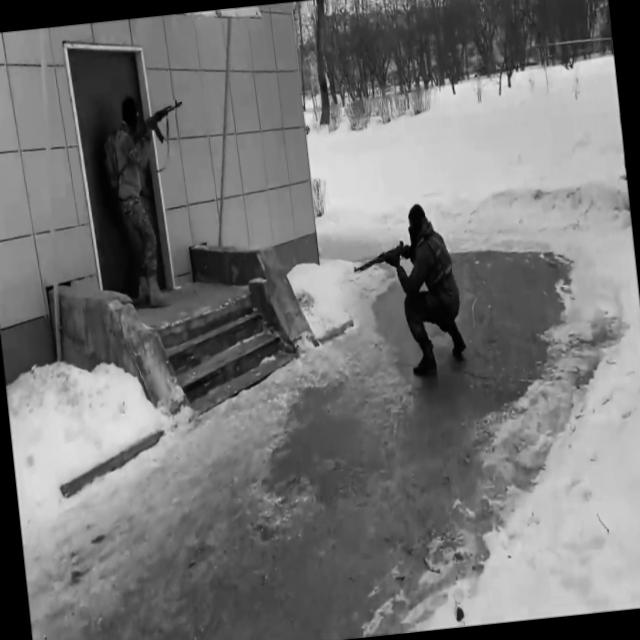gun: (128, 98, 186, 148), (351, 238, 416, 275)
person with a gun: (98, 89, 203, 311), (347, 200, 469, 381)
